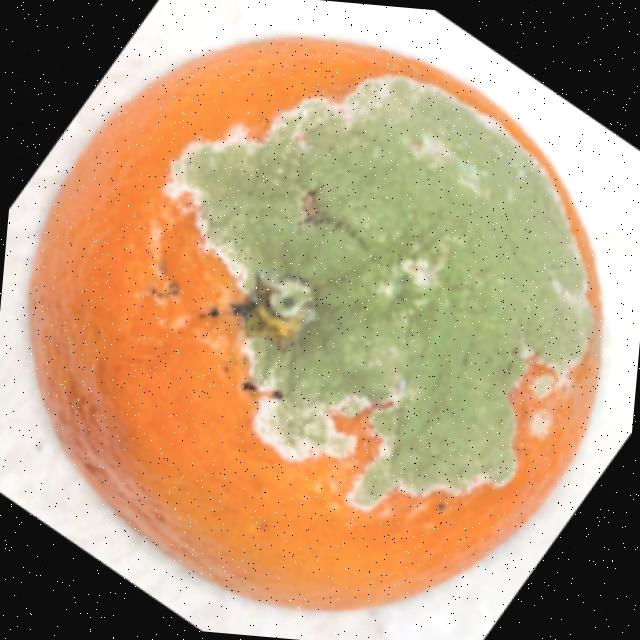Rotten: (4, 14, 630, 636)
